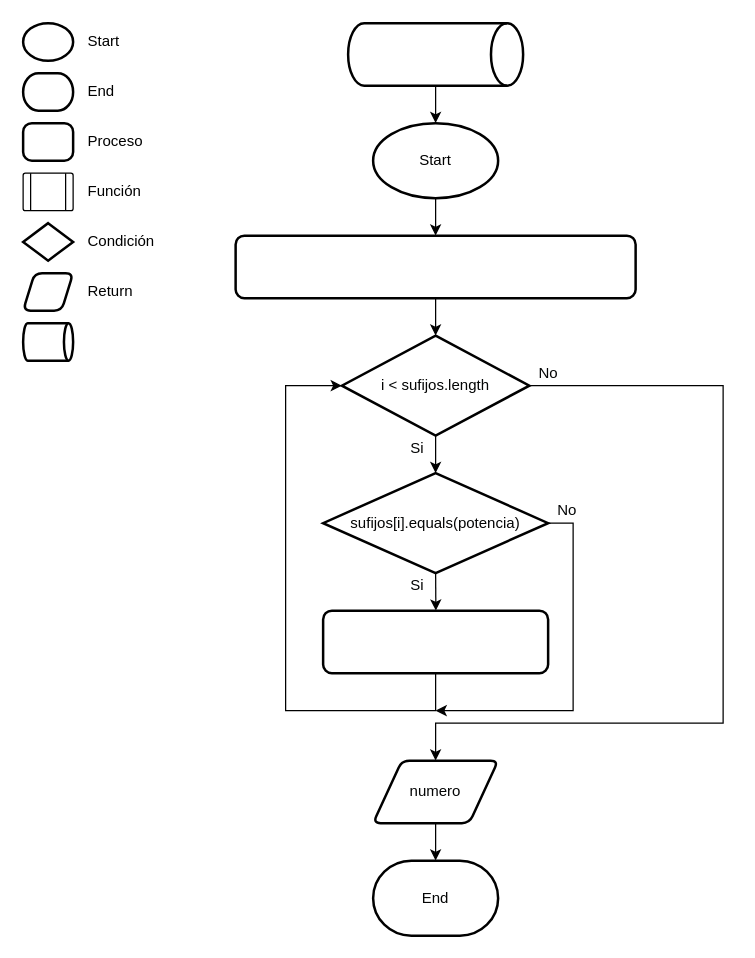
The diagram is 755 pixels wide and 958 high, and some of its shapes have lost their labels. The centre of each missing label's shape, as x and y in pixels:
long numero String potencia: pixel 435 53
numero *= Math.pow(10, i * 3): pixel 435 641
String[] sufijos = {"", "thousand", "million", ...} int i = 0: pixel 435 266
